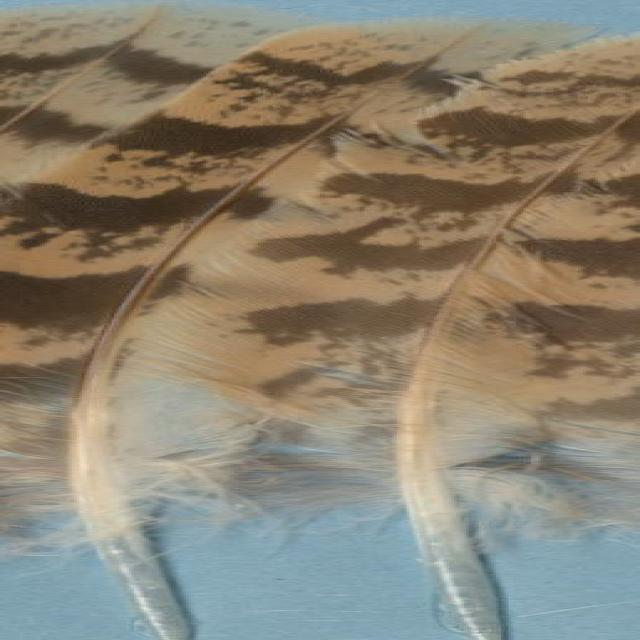feather: (0, 18, 602, 640), (192, 36, 640, 640)
